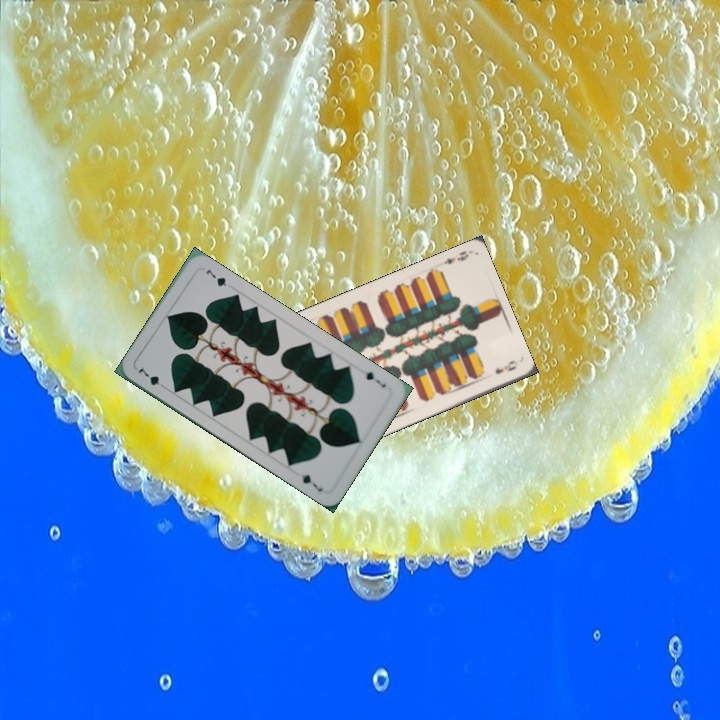E9: (440, 247, 472, 267)
G7: (134, 363, 169, 392), (358, 365, 388, 390)
